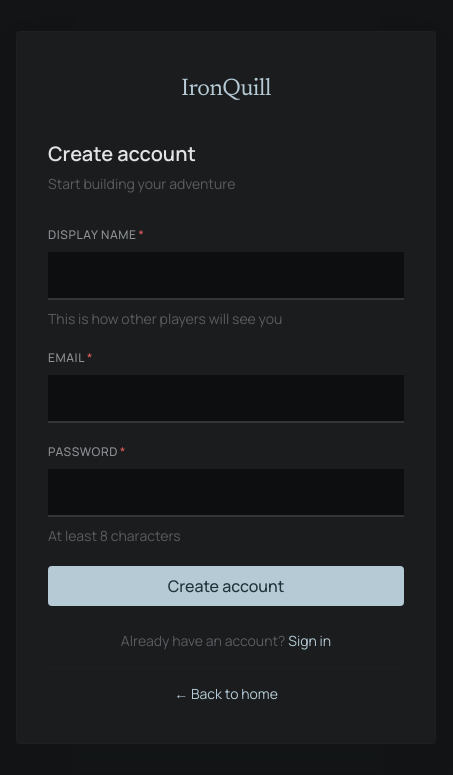
Test case: RegisterPage › shows validation errors for empty submission
Click the button "Create account" at (226, 586), box [48,566,404,606]
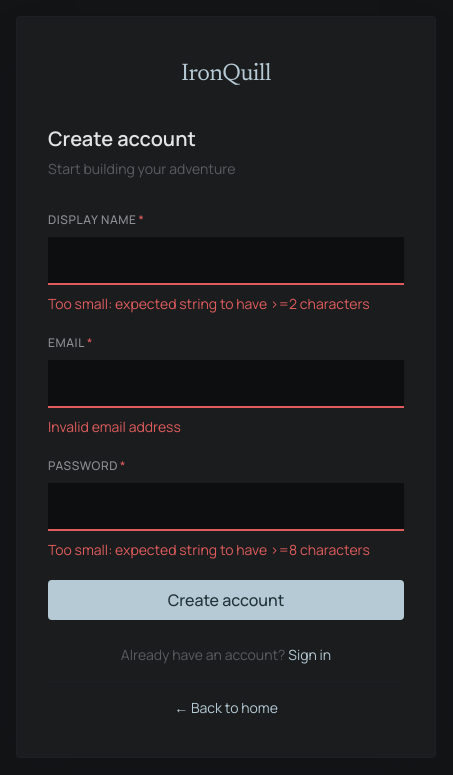
Result: the message "Too small: expected string to have >=2 characters" is shown at [48,293,404,314]
